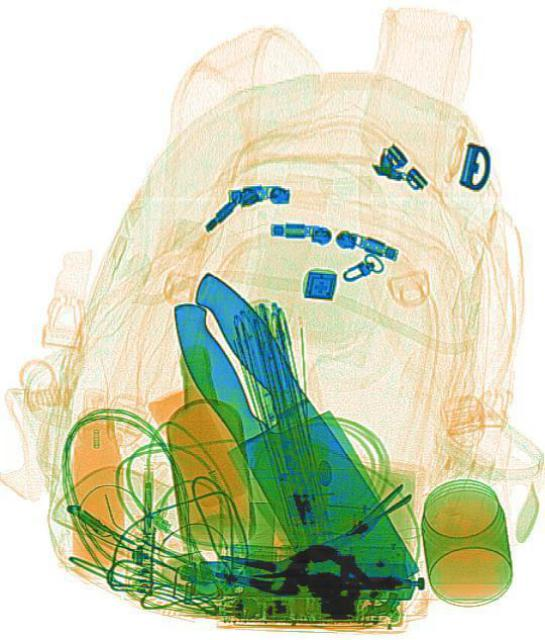Knife: (141, 259, 422, 633), (155, 259, 424, 626)
